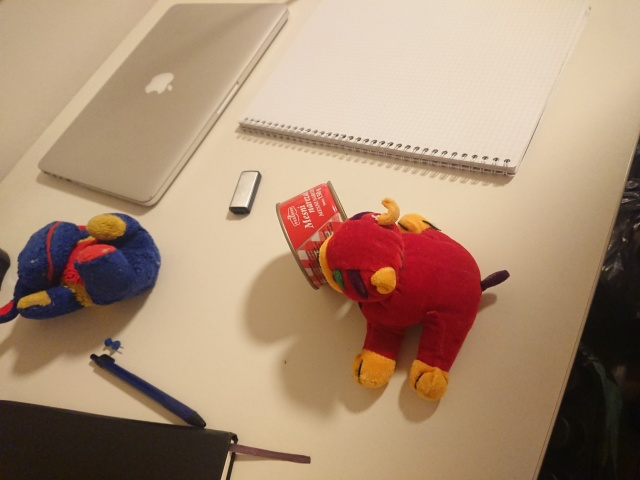Podravka Luncheon Meat 150g: (273, 177, 367, 294)
